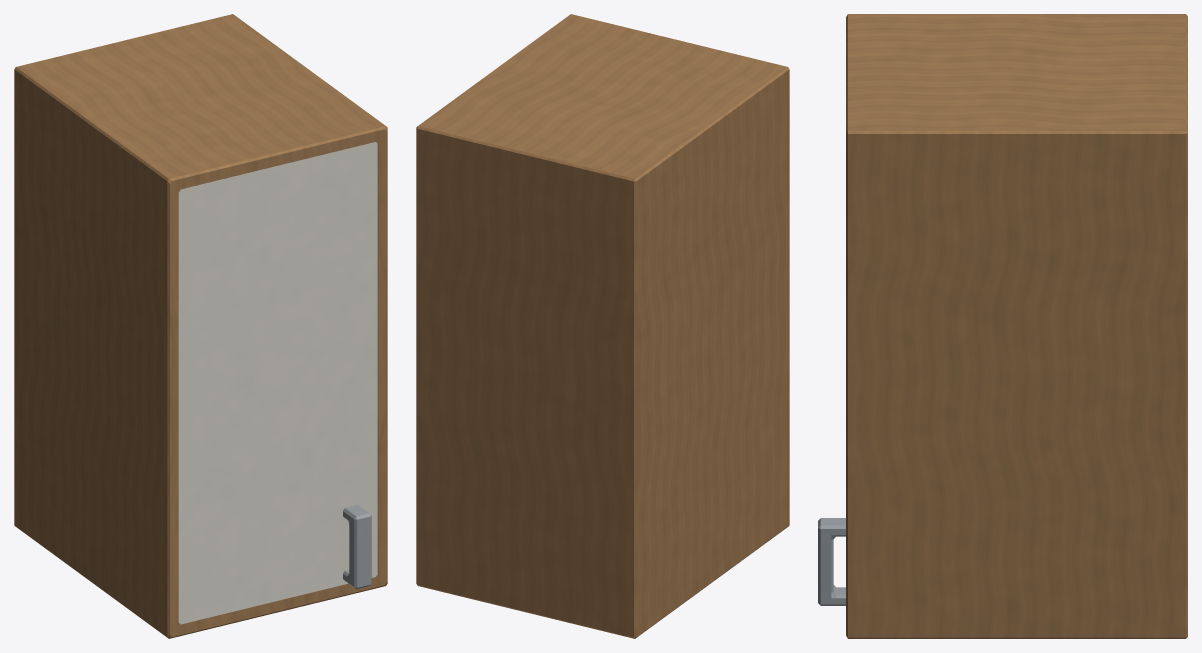
The model's file is 02_capboard_up_one_destructible.glb.
3 renders of one model, left to right at view 1: azimuth 30°, elevation 25°; view 2: azimuth 150°, elevation 25°; view 3: azimuth 270°, elevation 25°, orthographic. The views are drawn at different scales.
Visible parts, largest first — view 1: Cupboard A, Cupboard A.001; view 2: Cupboard A; view 3: Cupboard A, Cupboard A.001.
Part boxes in pixels (x1,y1,x2,y2): Cupboard A: (14, 14, 387, 638); Cupboard A.001: (178, 142, 377, 624); Cupboard A: (416, 14, 789, 638); Cupboard A: (846, 14, 1187, 638); Cupboard A.001: (818, 518, 845, 605).
Size of what is drawn, in the model's own units: 0.4154 by 0.829 by 0.5471.
3 materials, 3 textured.
